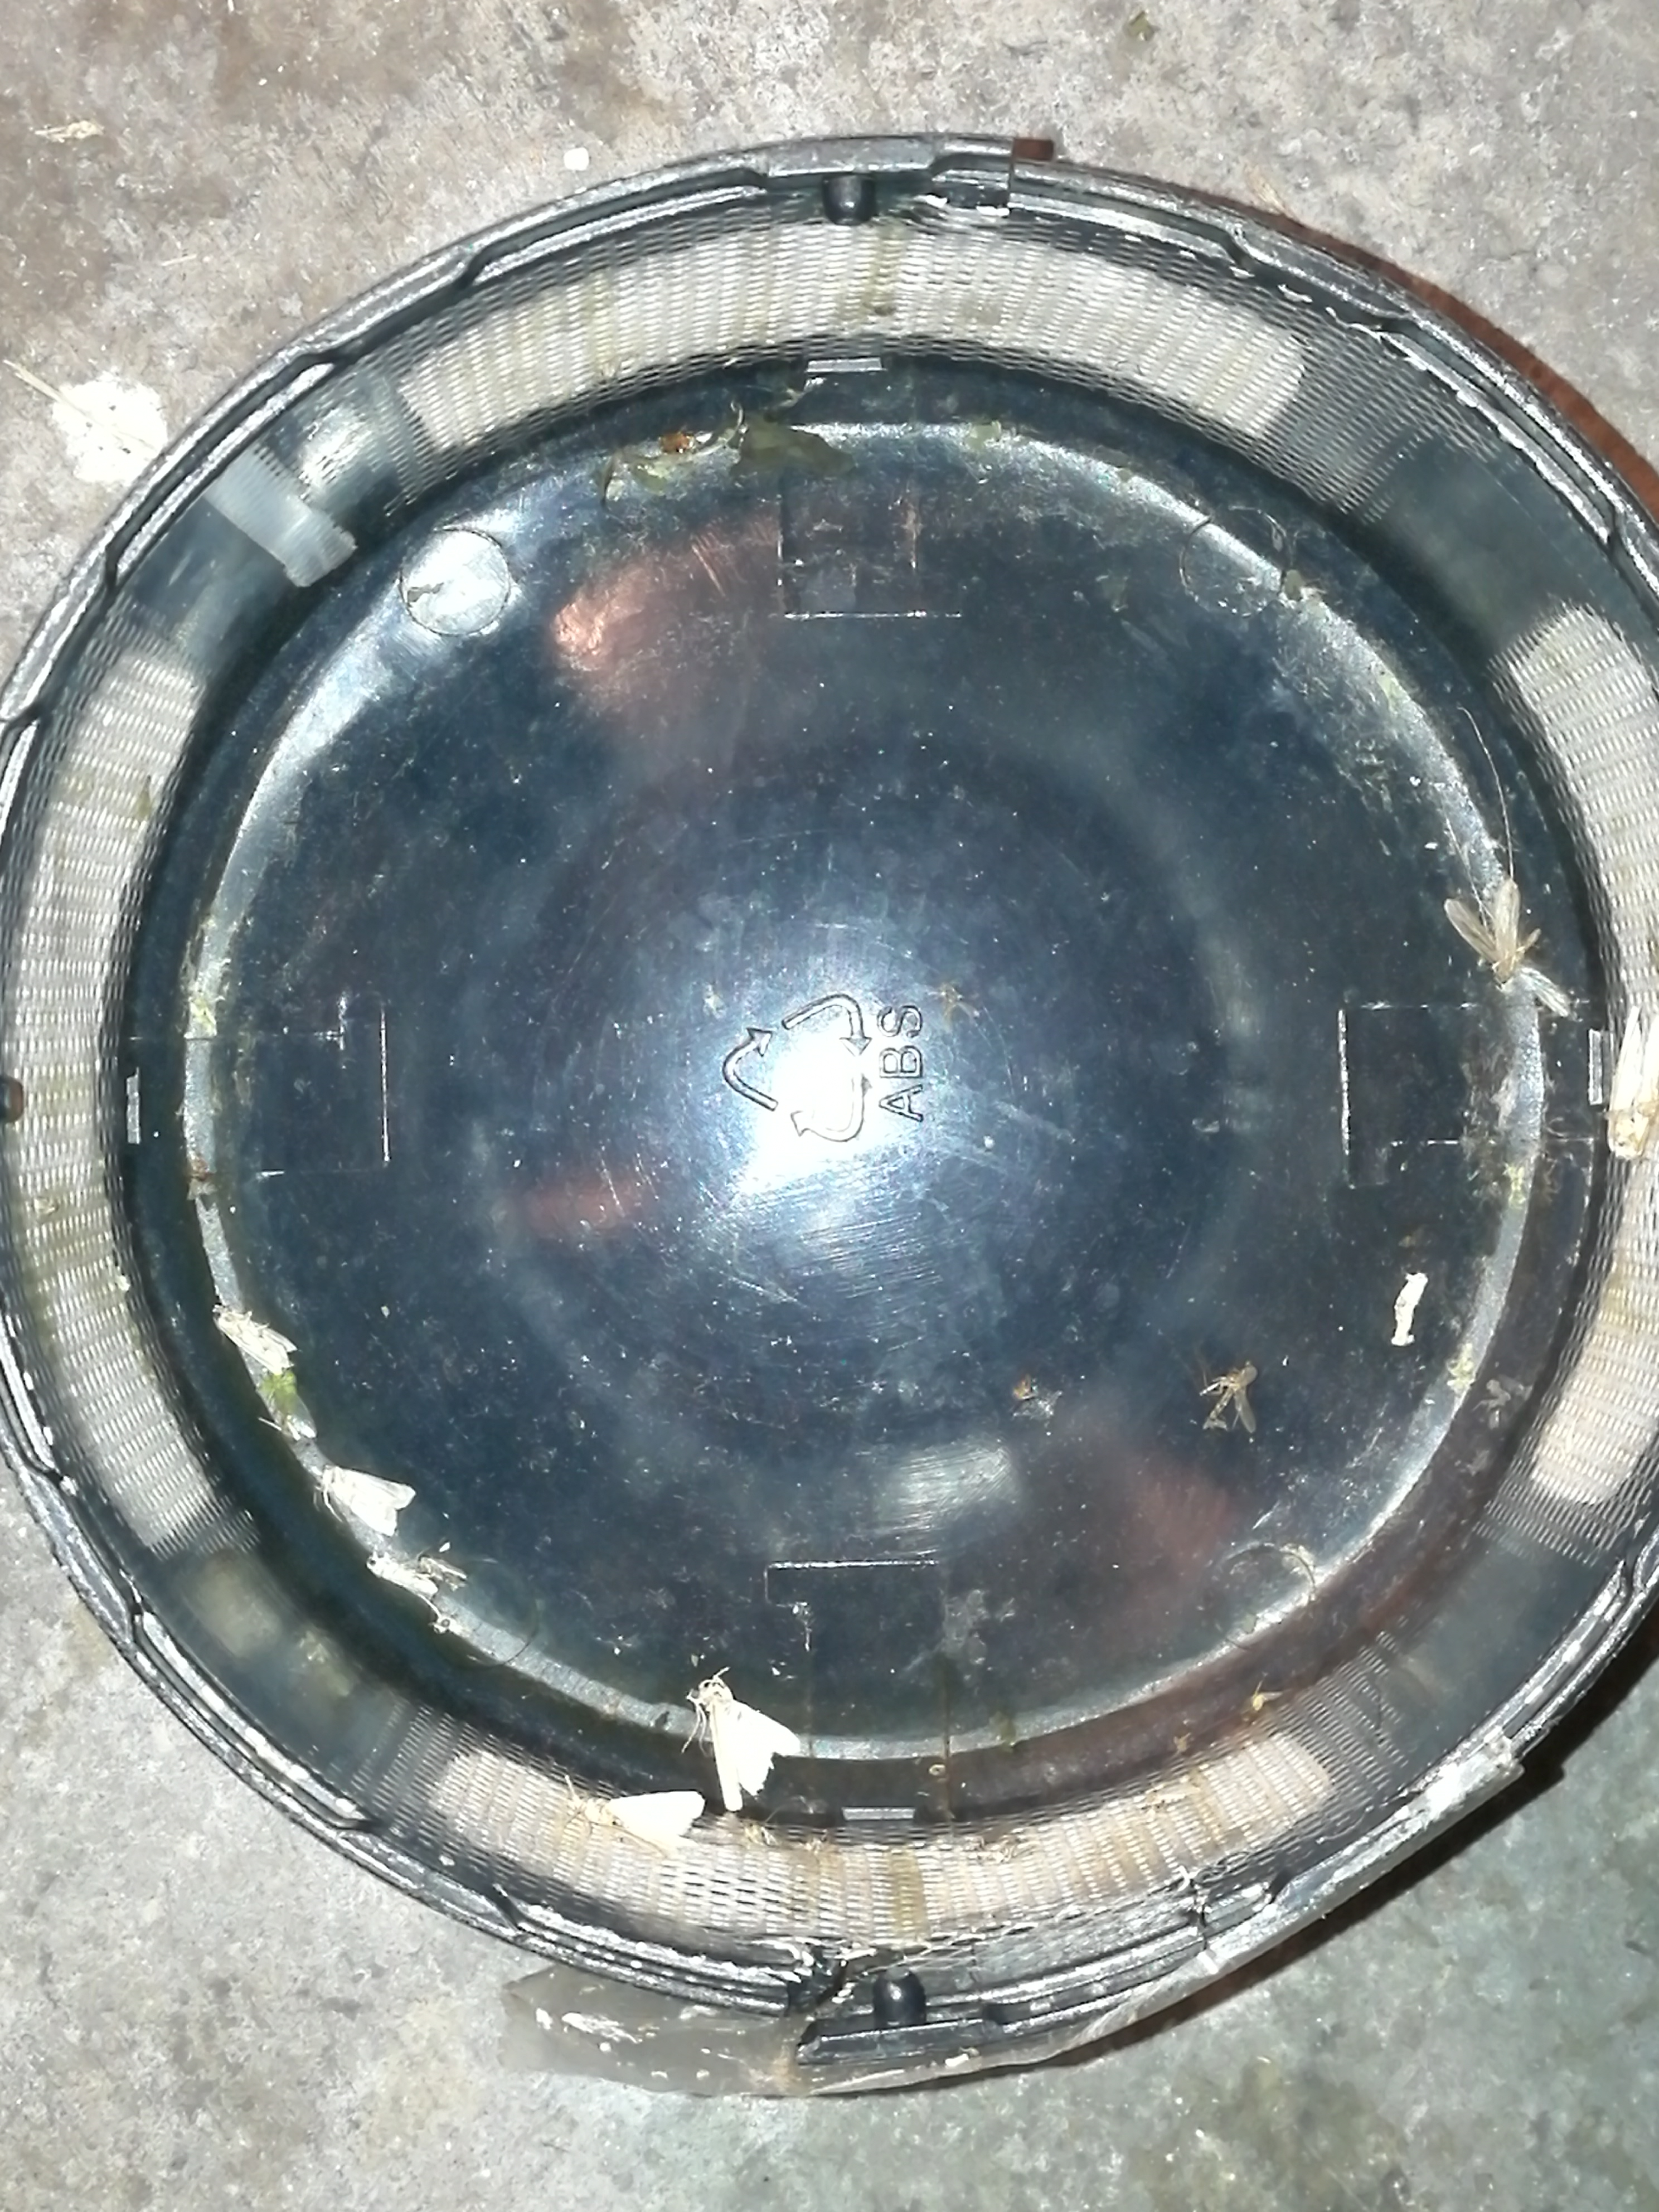mosquito: (211, 1303, 296, 1372), (364, 1554, 437, 1599)
moth: (685, 1681, 800, 1810), (572, 1792, 704, 1857), (1443, 880, 1521, 981), (319, 1467, 416, 1538)
